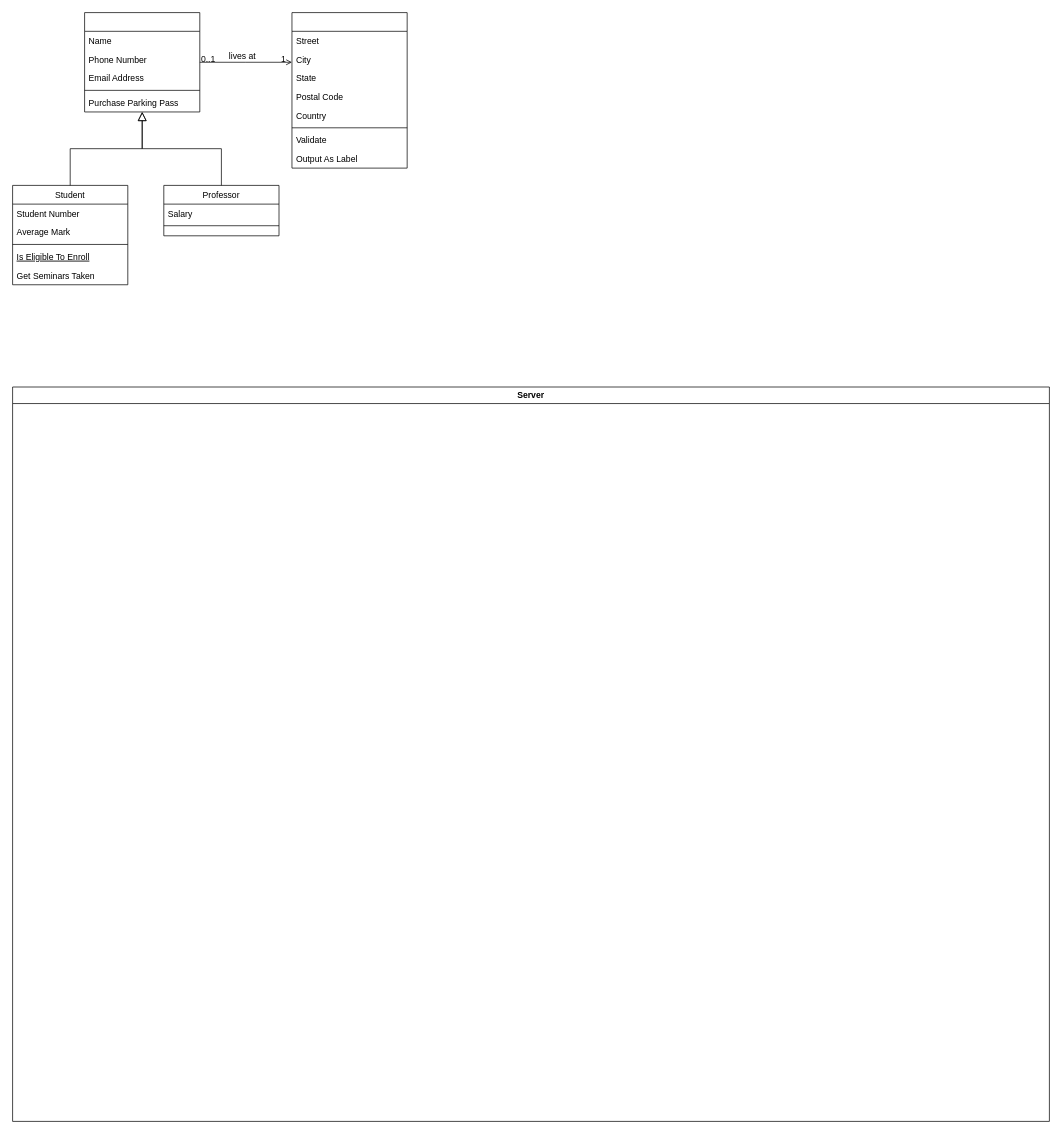
Image size: 1062x1134. Some labels were removed from this diagram. Here are the shapes that lost their labels. From the top down, the box of each, then its label:
(84, 12, 200, 112): Person
(291, 12, 407, 168): Address
